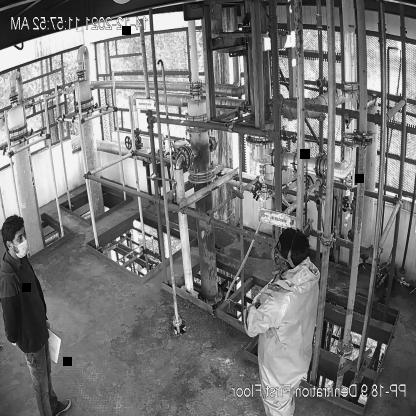no_goggles: (13, 229, 28, 244)
